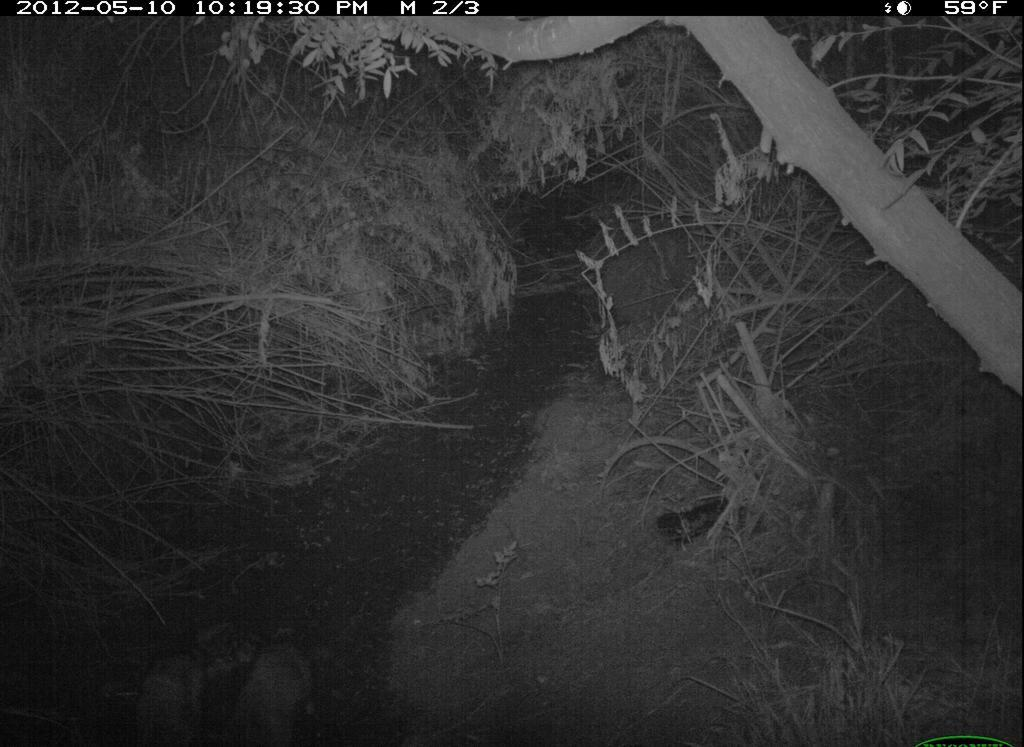raccoon: (238, 623, 324, 747)
